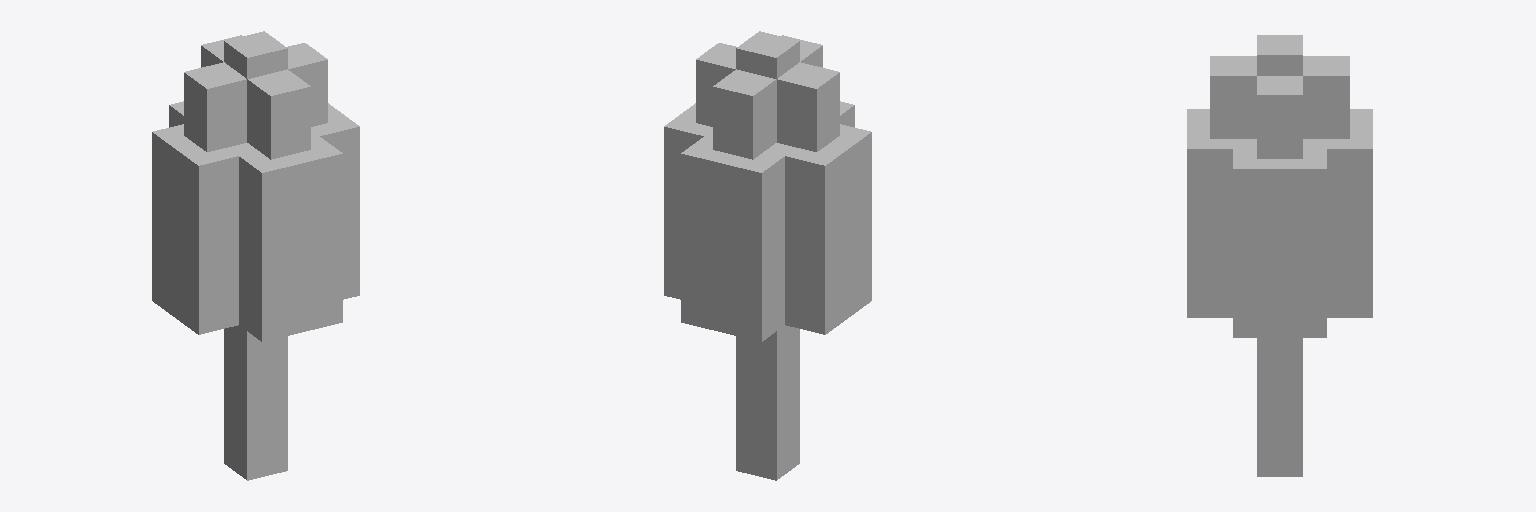
Rendered from Birch_Tree (Stage 5).obj.
3 views of the same model, side by side, from view 1: azimuth 30°, elevation 25°; view 2: azimuth 150°, elevation 25°; view 3: azimuth 270°, elevation 25° (orthographic).
Parts seen in each view (by area): view 1: object 1; view 2: object 1; view 3: object 1.
Boxes of the visible parts, x1,y1,x2,y2 form: object 1: [152, 31, 359, 480]; object 1: [664, 31, 871, 480]; object 1: [1187, 35, 1372, 476].
Bounding box in the file's own units: 0.8 × 2 × 0.8.